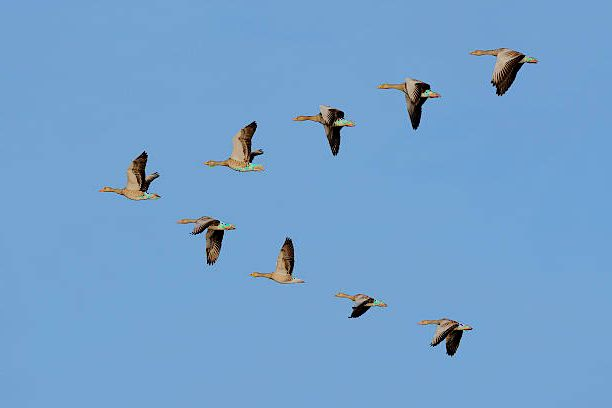Bird: (464, 44, 538, 100), (200, 117, 269, 176), (95, 148, 166, 204), (290, 102, 358, 159), (376, 75, 442, 131), (174, 211, 236, 266), (249, 234, 311, 288), (412, 313, 473, 358), (327, 291, 387, 320)
